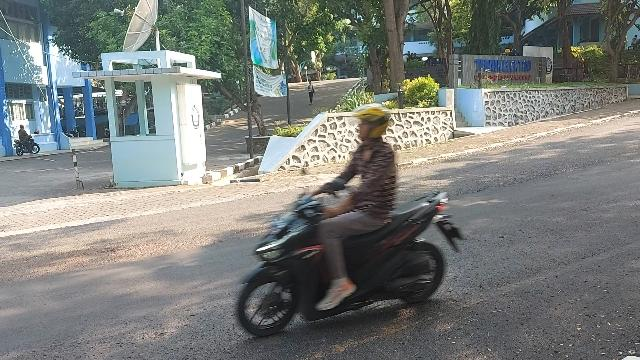helm: (355, 105, 392, 140)
motor: (238, 166, 466, 338)
